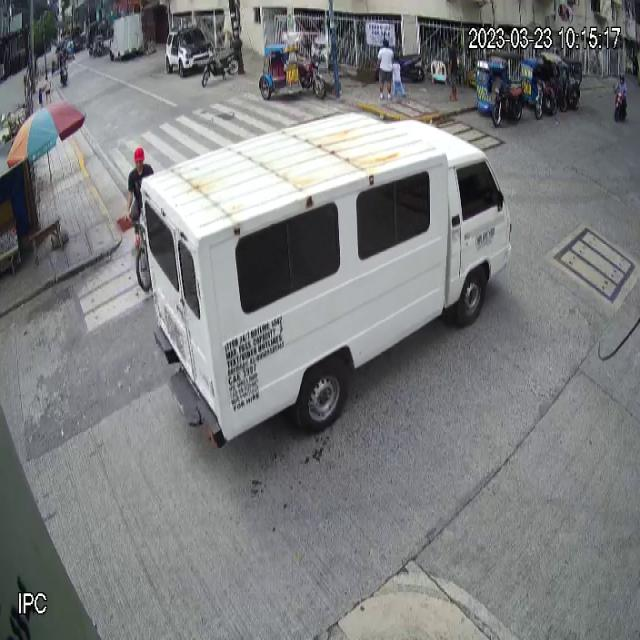Tricycle: (261, 32, 332, 104), (475, 49, 525, 126)
Van: (137, 110, 513, 448)
